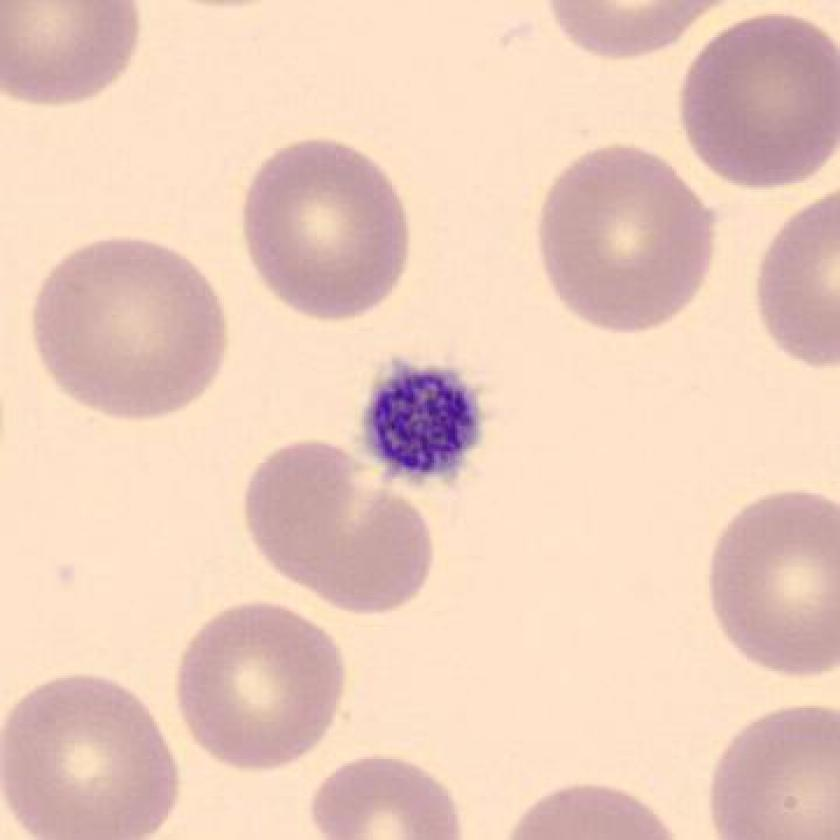platelets: (342, 350, 498, 494)
